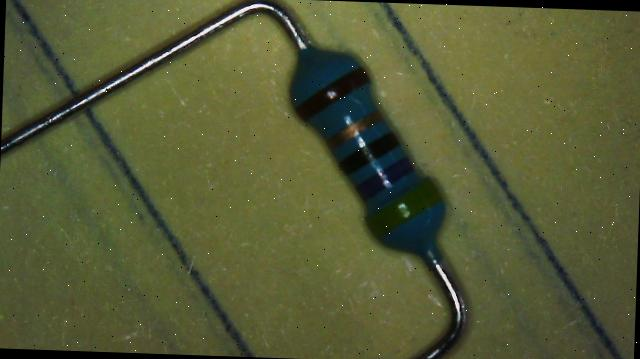black: (339, 130, 400, 176)
brown: (297, 64, 370, 121)
gold: (326, 108, 384, 150)
resistor: (251, 21, 489, 294)
violet: (356, 154, 414, 202)
yellow: (368, 176, 442, 238)
